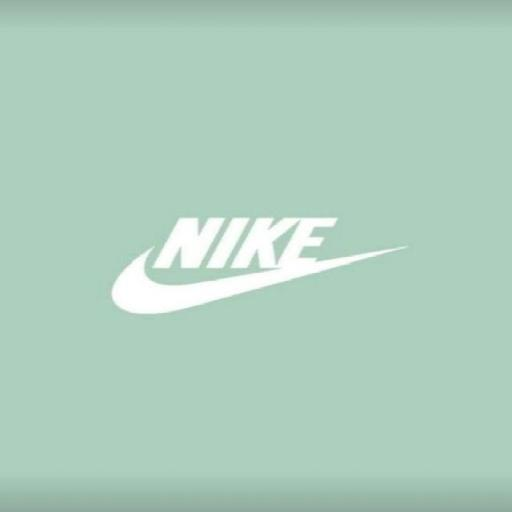Nike: (110, 258, 352, 316), (153, 213, 341, 269)
